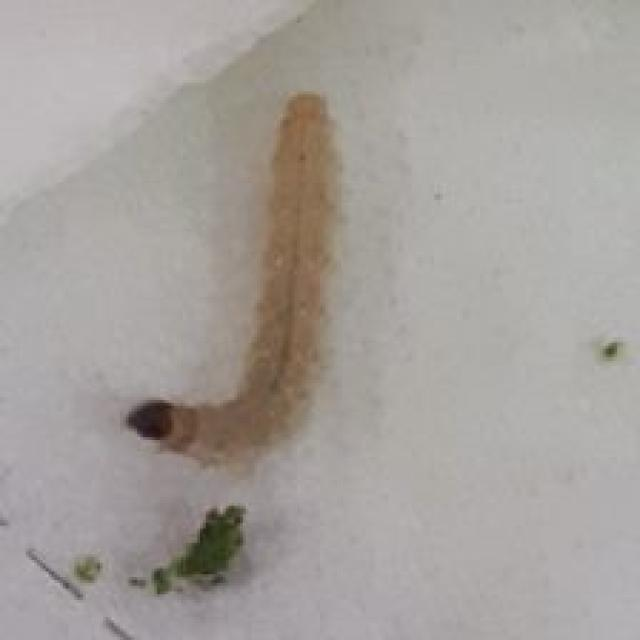white mucus: (76, 65, 405, 501)
